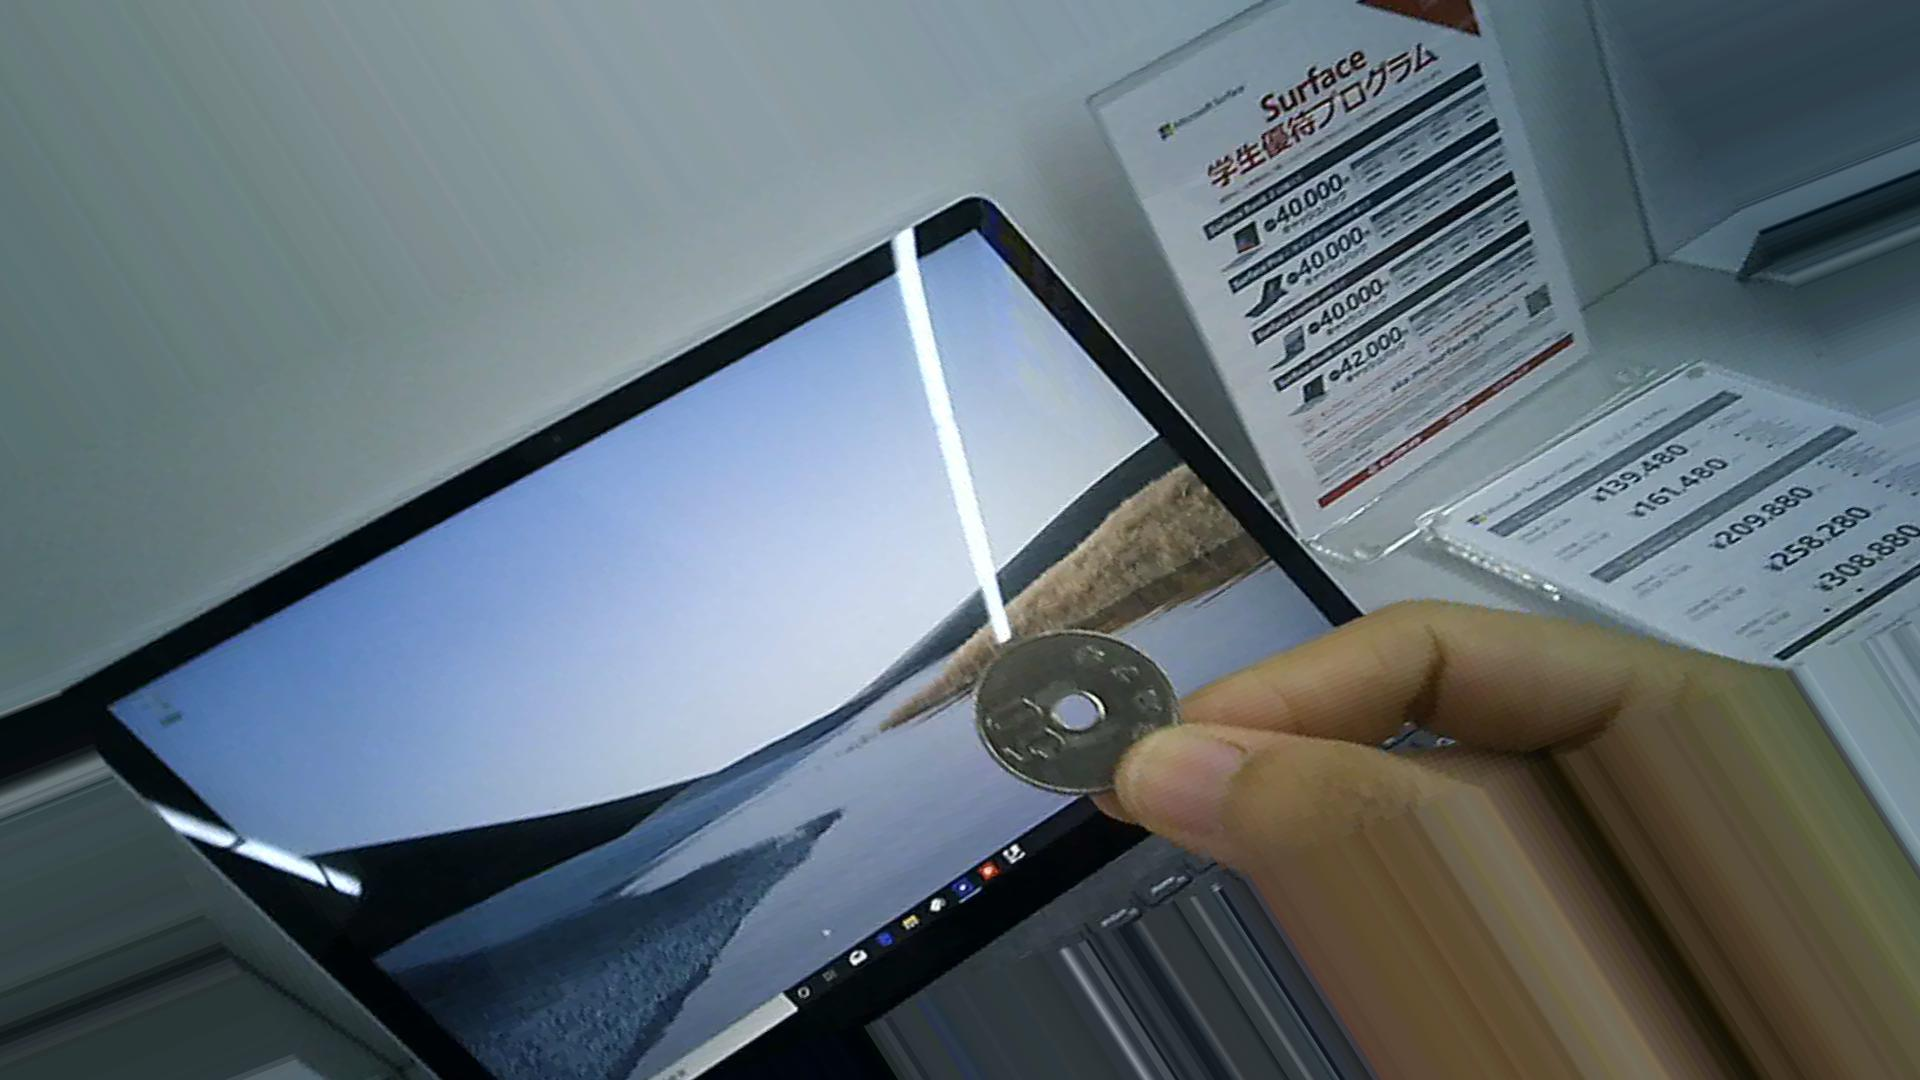50 Yen: (973, 638, 1185, 814)
